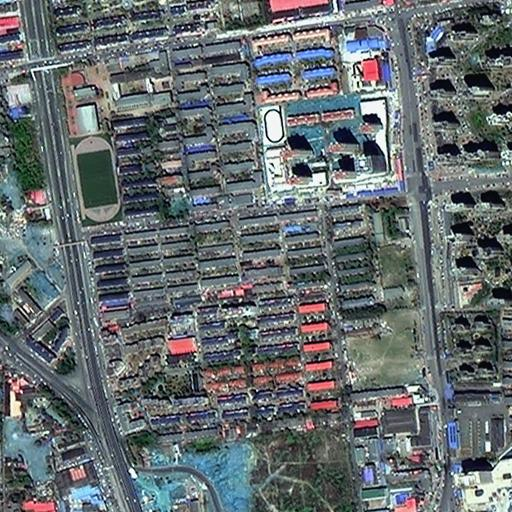school: (56, 61, 124, 229), (256, 103, 290, 196)
